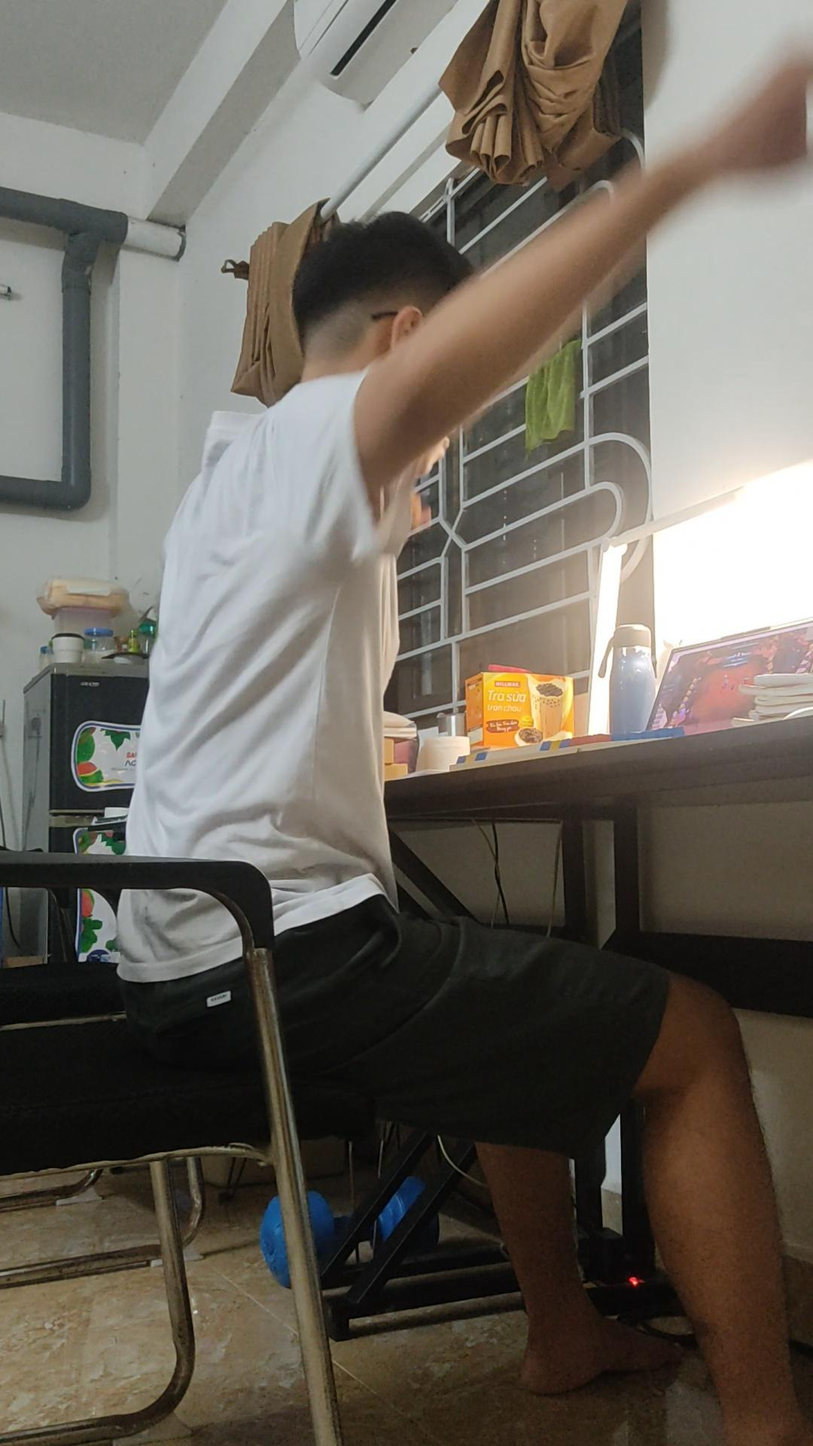GoodPosture: (128, 63, 812, 1445)
